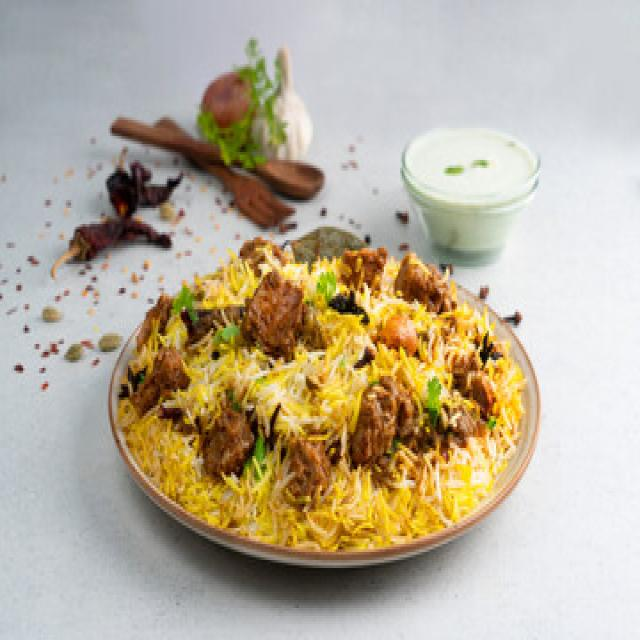BIRIYANI: (117, 237, 523, 549)
CURD: (402, 128, 533, 205)
